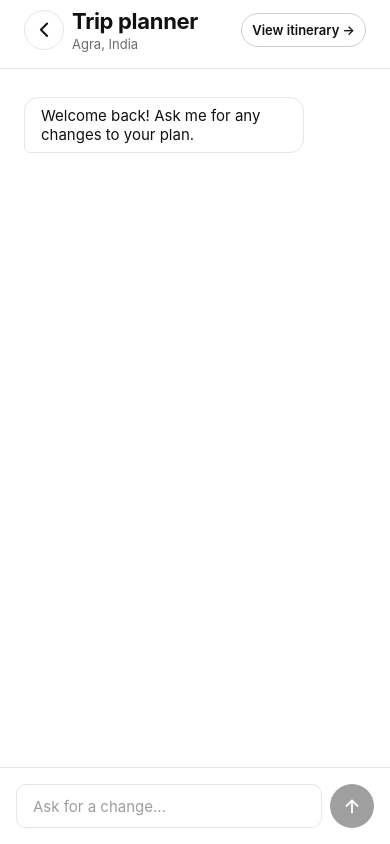
ChatScreen › welcomes back a returning user and sends a modification request
Check: the text "Welcome back! Ask me for any changes to your plan." is shown, box x1=41 y1=106 x2=287 y2=144
Type "start it at 8am" into the field with test id "chat-composer-input". click: (169,806)
box: x1=16 y1=784 x2=322 y2=828
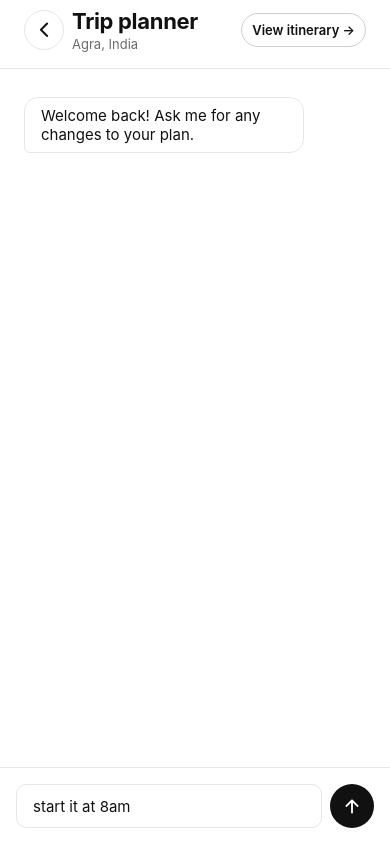
Click the button with test id "chat-send-button". click: (352,806)
box: x1=330 y1=784 x2=374 y2=828
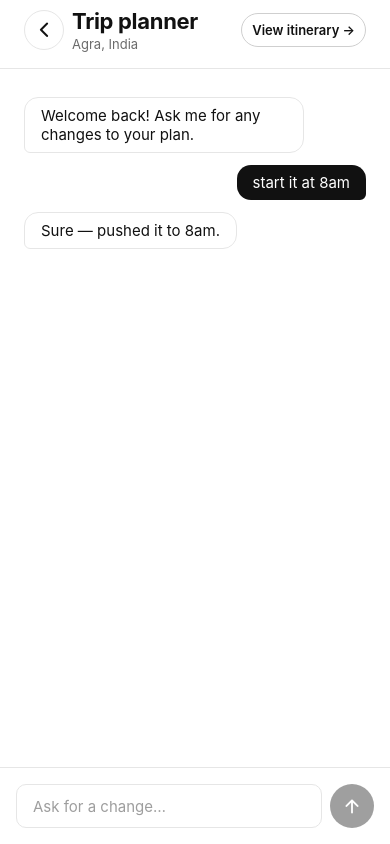
Check: the text "Sure — pushed it to 8am." is shown, box x1=41 y1=221 x2=220 y2=240
